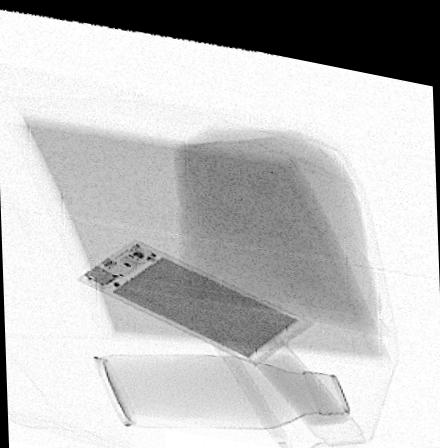Powerbank: (74, 231, 313, 355)
